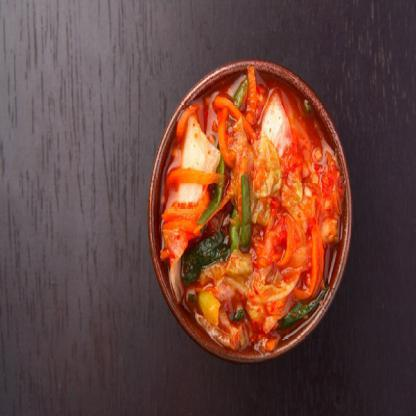kimchi: (158, 92, 338, 338)
